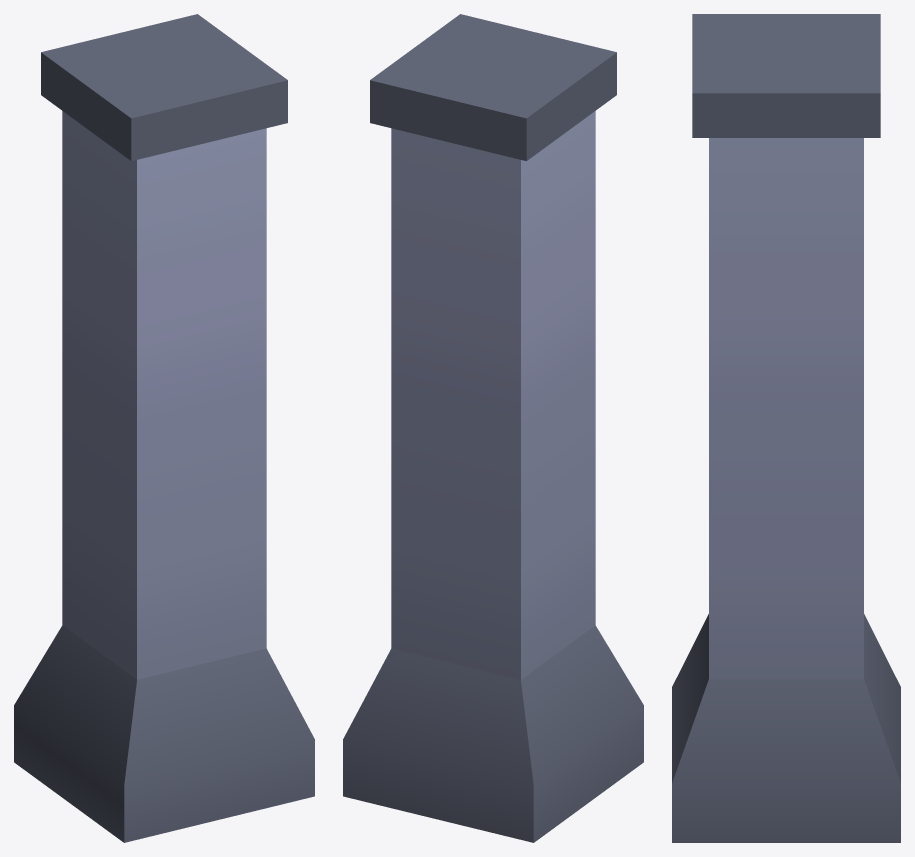
File: bridge-pillar-wide.glb
3 renders of one model, left to right at view 1: azimuth 30°, elevation 25°; view 2: azimuth 150°, elevation 25°; view 3: azimuth 270°, elevation 25°, orthographic. The views are drawn at different scales.
Visible parts, largest first — view 1: bridge-pillar-wide; view 2: bridge-pillar-wide; view 3: bridge-pillar-wide.
Part boxes in pixels (bbox=[...]): bridge-pillar-wide: bbox=[14, 14, 314, 842]; bridge-pillar-wide: bbox=[343, 14, 643, 842]; bridge-pillar-wide: bbox=[672, 14, 900, 842].
Size of the model in its own units: 0.14 by 0.5 by 0.14.
1 material, 1 textured.
